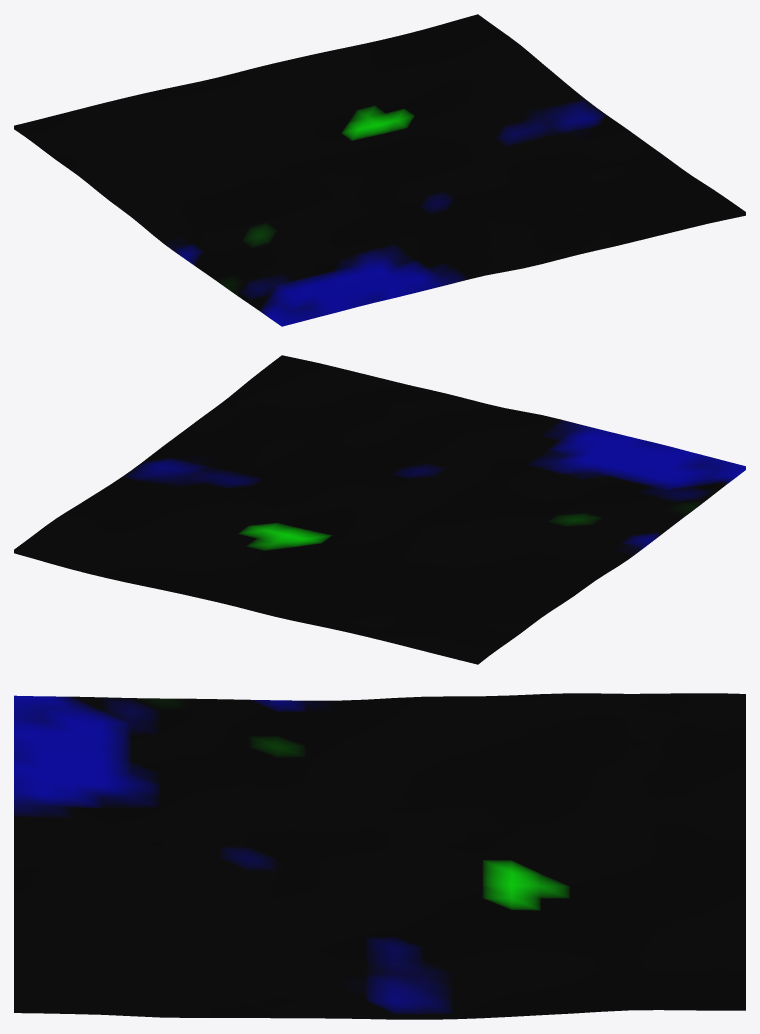
File: coast_12_7.glb
3 renders of one model, top to bottom at view 1: azimuth 30°, elevation 25°; view 2: azimuth 150°, elevation 25°; view 3: azimuth 270°, elevation 25°, orthographic. The views are drawn at different scales.
Visible parts, largest first — view 1: terrain; view 2: terrain; view 3: terrain.
Boxes of the visible parts, x1,y1,x2,y2 form: terrain: (14, 14, 745, 326); terrain: (14, 355, 745, 664); terrain: (14, 693, 745, 1019).
Size of the model in its own units: 200 by 5.26 by 200.
